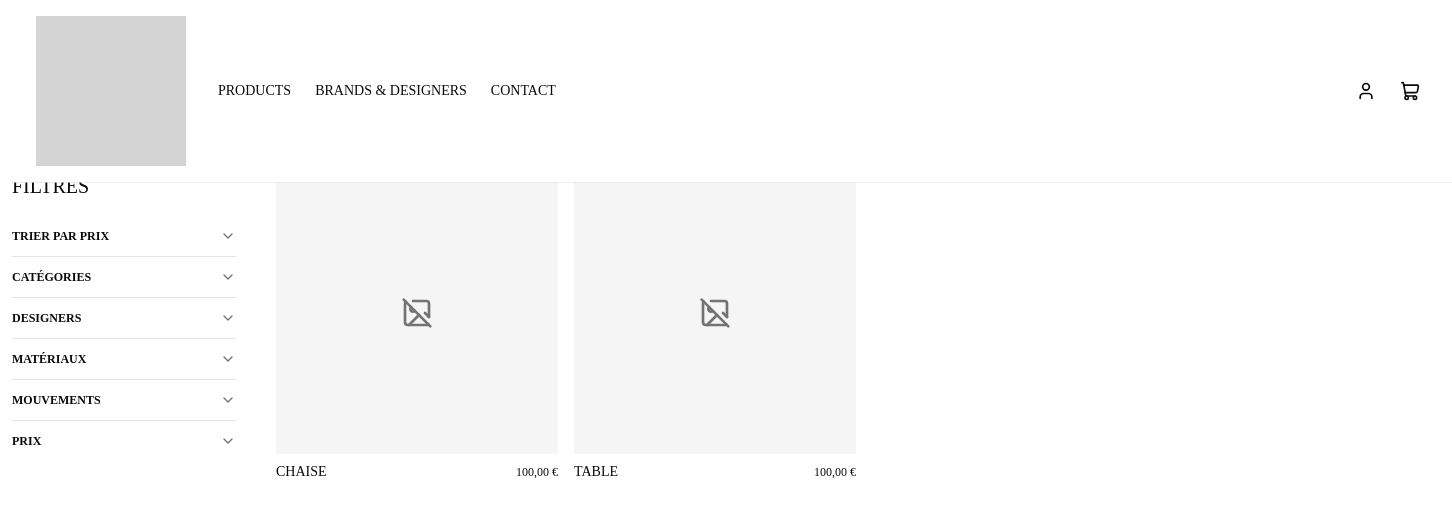
ShopAllPage › lists every category as a filter button
Click the button "Catégories": (124, 277) [12, 257, 236, 297]
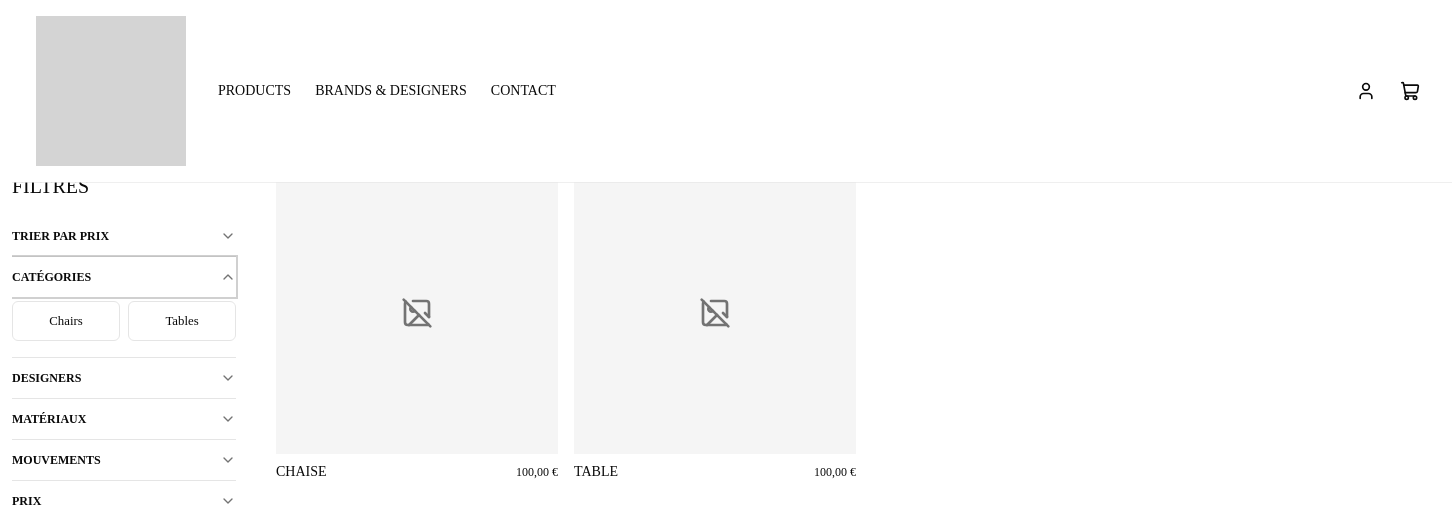
Result: the button "Chairs" is shown at [12, 301, 120, 341]
Result: the button "Tables" is shown at [128, 301, 236, 341]
